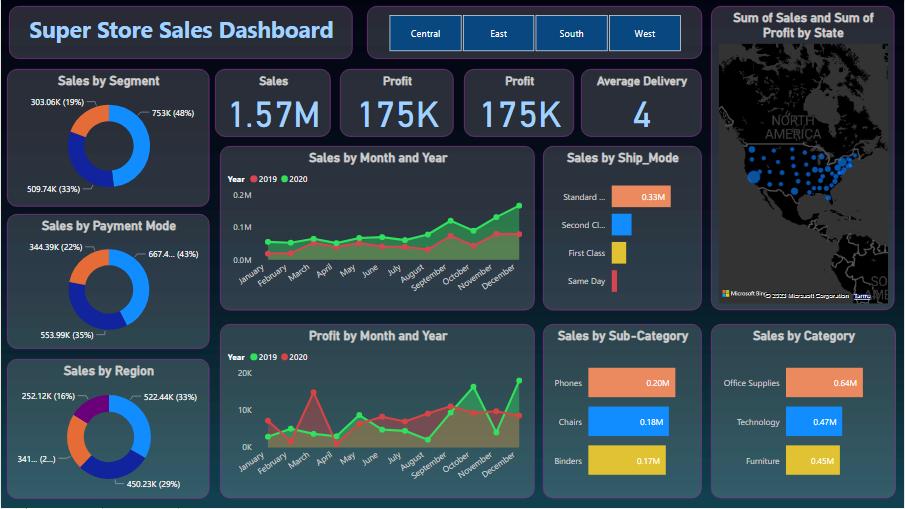

The page's visual inventory and layout, read from the dashboard file:
{"tool":"powerbi","page":{"name":"Page 1","canvas":[1280,720],"ordinal":0},"visuals":[{"type":"clusteredBarChart","title":"Sales by Category","fields":{"Category":["SuperStore_Sales_Dataset.Category"],"Y":["Sum(SuperStore_Sales_Dataset.Sales)"]},"box":[1006.6,459.7,261.7,246.6],"z":0},{"type":"clusteredBarChart","title":"Sales by Sub-Category","fields":{"Category":["SuperStore_Sales_Dataset.Sub-Category"],"Y":["Sum(SuperStore_Sales_Dataset.Sales)"]},"box":[768.3,459.7,224.8,246.6],"z":1000},{"type":"clusteredBarChart","title":"Sales by Ship_Mode","fields":{"Category":["SuperStore_Sales_Dataset.Ship Mode"],"Y":["Sum(SuperStore_Sales_Dataset.Sales)"]},"box":[768.3,206.3,224.8,233.2],"z":2000},{"type":"areaChart","title":"Profit by Month and Year","fields":{"Category":["SuperStore_Sales_Dataset.Order Date.Variation.Date Hierarchy.Month","SuperStore_Sales_Dataset.Order Date.Variation.Date Hierarchy.Day"],"Series":["SuperStore_Sales_Dataset.Order Date.Variation.Date Hierarchy.Year"],"Y":["Sum(SuperStore_Sales_Dataset.Profit)"]},"box":[310.4,459.7,446.2,246.6],"z":3000},{"type":"areaChart","title":"Sales by Month and Year","fields":{"Y":["Sum(SuperStore_Sales_Dataset.Sales)"],"Category":["SuperStore_Sales_Dataset.Order Date.Variation.Date Hierarchy.Month","SuperStore_Sales_Dataset.Order Date.Variation.Date Hierarchy.Day"],"Series":["SuperStore_Sales_Dataset.Order Date.Variation.Date Hierarchy.Year"]},"box":[310.4,206.3,446.2,233.2],"z":4000},{"type":"map","fields":{"Size":["Sum(SuperStore_Sales_Dataset.Sales)"],"Category":["SuperStore_Sales_Dataset.State"]},"box":[1006.6,8.4,260,431.1],"z":5000},{"type":"donutChart","title":"Sales by Segment","fields":{"Category":["SuperStore_Sales_Dataset.Segment"],"Y":["Sum(SuperStore_Sales_Dataset.Sales)"]},"box":[8.4,97.3,286.9,194.6],"z":6000},{"type":"donutChart","title":"Sales by Payment Mode","fields":{"Category":["SuperStore_Sales_Dataset.Payment Mode"],"Y":["Sum(SuperStore_Sales_Dataset.Sales)"]},"box":[8.4,303.6,286.9,191.2],"z":7000},{"type":"slicer","fields":{"Values":["SuperStore_Sales_Dataset.Region"]},"box":[518.4,8.4,474.8,75.5],"z":8000},{"type":"textbox","box":[11.7,8.4,486.5,75.5],"z":9000},{"type":"card","title":"Sales","fields":{"Values":["Sum(SuperStore_Sales_Dataset.Sales)"]},"box":[303.6,97.3,164.4,95.6],"z":10000},{"type":"card","title":"Profit","fields":{"Values":["Sum(SuperStore_Sales_Dataset.Profit)"]},"box":[479.8,97.3,161,95.6],"z":11000},{"type":"card","title":"Profit","fields":{"Values":["Sum(SuperStore_Sales_Dataset.Profit)"]},"box":[655.9,97.3,156,95.6],"z":12000},{"type":"card","title":"Average Delivery ","fields":{"Values":["Avg(SuperStore_Sales_Dataset.Average Delivery)"]},"box":[822,97.3,171.1,95.6],"z":13000},{"type":"donutChart","title":"Sales by Region","fields":{"Category":["SuperStore_Sales_Dataset.Region"],"Y":["Sum(SuperStore_Sales_Dataset.Sales)"]},"box":[8.4,508.3,286.9,198],"z":14000}]}

Visuals, with their boxes in screenshot pixels (x1, y1, x2, y2), scaled from the page's 1280x720 canvas onto the 905x509 screenshot:
"Sales by Category" clusteredBarChart: locate(712, 325, 897, 499)
"Sales by Sub-Category" clusteredBarChart: locate(543, 325, 702, 499)
"Sales by Ship_Mode" clusteredBarChart: locate(543, 146, 702, 311)
"Profit by Month and Year" areaChart: locate(219, 325, 535, 499)
"Sales by Month and Year" areaChart: locate(219, 146, 535, 311)
map - Sum(SuperStore_Sales_Dataset.Sales) x SuperStore_Sales_Dataset.State: locate(712, 6, 896, 311)
"Sales by Segment" donutChart: locate(6, 69, 209, 206)
"Sales by Payment Mode" donutChart: locate(6, 215, 209, 350)
slicer - SuperStore_Sales_Dataset.Region: locate(367, 6, 702, 59)
textbox: locate(8, 6, 352, 59)
"Sales" card: locate(215, 69, 331, 136)
"Profit" card: locate(339, 69, 453, 136)
"Profit" card: locate(464, 69, 574, 136)
"Average Delivery " card: locate(581, 69, 702, 136)
"Sales by Region" donutChart: locate(6, 359, 209, 499)
